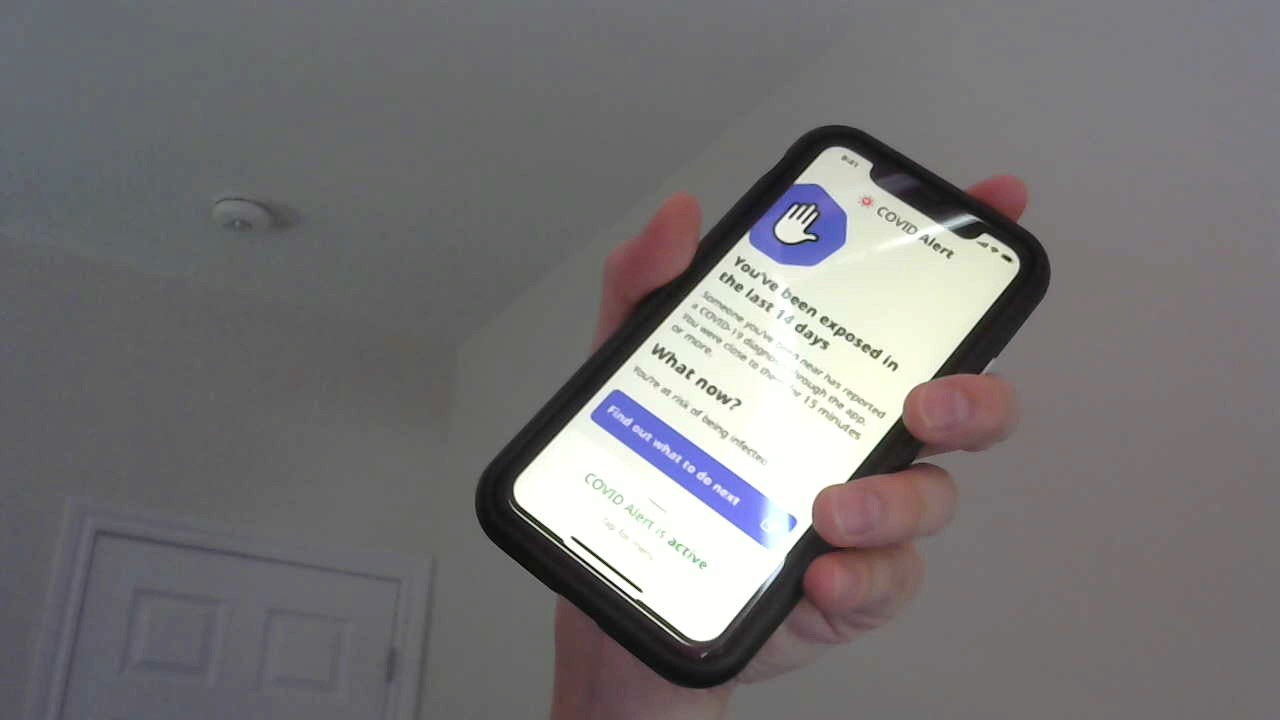Exposed: (711, 155, 919, 383)
